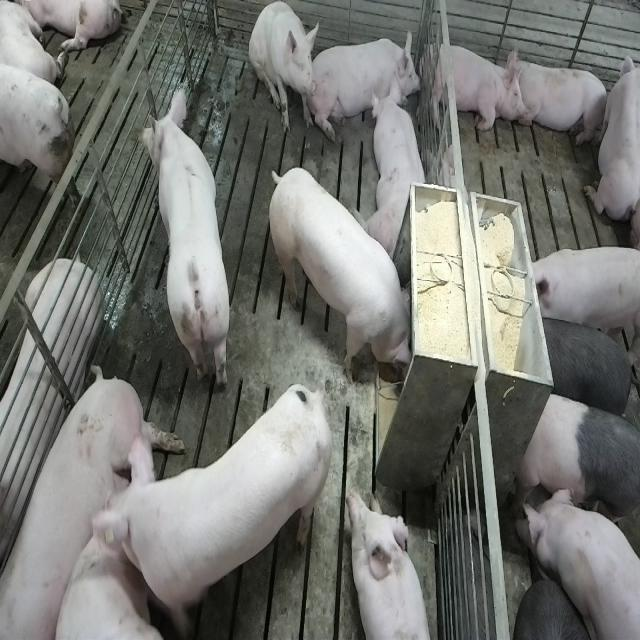Feeding: (272, 166, 421, 390)
Lateral_lying: (2, 362, 188, 635), (0, 256, 102, 588)
Sitting: (249, 2, 319, 137)
Standing: (105, 375, 339, 629), (139, 90, 233, 397), (513, 390, 638, 568), (514, 481, 638, 640), (523, 242, 637, 353), (534, 309, 638, 419)
Sternal_lying: (348, 484, 434, 640), (314, 26, 422, 136), (368, 83, 430, 263), (584, 42, 637, 236), (510, 51, 610, 149), (426, 36, 524, 134)
